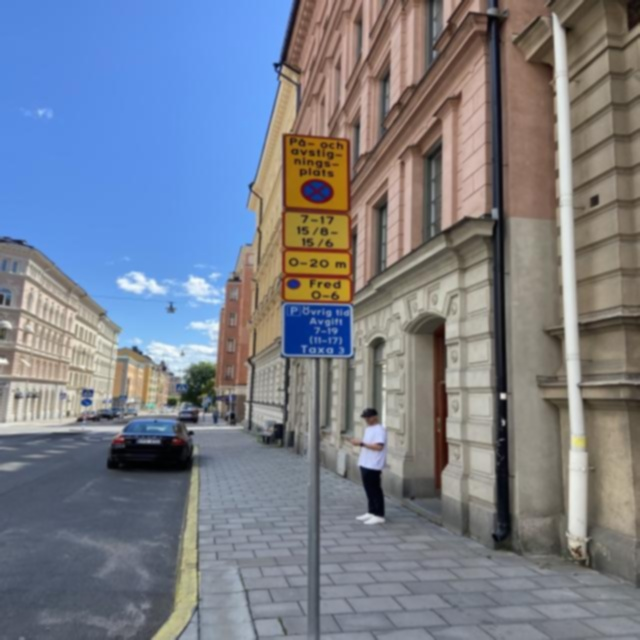avstignnigsplats: (282, 131, 352, 213)
